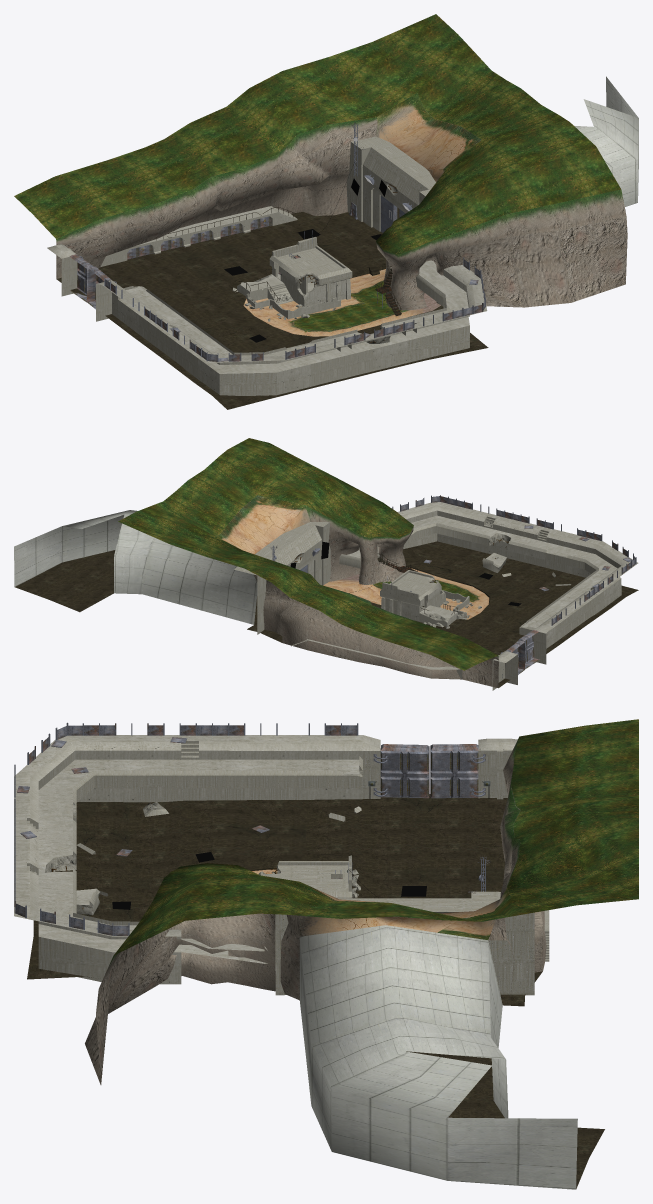
The picture shows the model from 3 angles, top to bottom: view 1: azimuth 30°, elevation 25°; view 2: azimuth 150°, elevation 25°; view 3: azimuth 270°, elevation 25°; orthographic projection. The views are drawn at different scales.
Visible parts, largest first — view 1: rocks, wall, tarmac, gate, ground, building, rocksBuilding, wallUp, buildingOut; view 2: rocks, tarmac, wall, gate, building, ground, wallUp, buildingOut, wallDebris, rocksBuilding, gateL; view 3: rocks, tarmac, wall, gate, wallUp, gateL, gateL01, building, wallDebris.
Part boxes in pixels (bbox=[...]): rocks: bbox=[14, 14, 638, 310]; wall: bbox=[47, 244, 487, 395]; tarmac: bbox=[56, 178, 488, 409]; gate: bbox=[346, 136, 435, 232]; ground: bbox=[243, 269, 440, 336]; building: bbox=[269, 237, 352, 306]; rocksBuilding: bbox=[100, 206, 297, 266]; wallUp: bbox=[104, 257, 485, 361]; buildingOut: bbox=[229, 269, 340, 321]; rocks: bbox=[14, 438, 498, 688]; tarmac: bbox=[15, 541, 638, 687]; wall: bbox=[339, 502, 638, 690]; gate: bbox=[234, 522, 330, 634]; building: bbox=[380, 570, 445, 621]; ground: bbox=[323, 567, 489, 619]; wallUp: bbox=[392, 495, 636, 625]; buildingOut: bbox=[419, 580, 481, 628]; wallDebris: bbox=[482, 538, 571, 642]; rocksBuilding: bbox=[291, 639, 462, 679]; gateL: bbox=[518, 630, 539, 669]; rocks: bbox=[85, 719, 638, 1189]; tarmac: bbox=[27, 794, 604, 1189]; wall: bbox=[14, 735, 517, 984]; gate: bbox=[275, 891, 534, 995]; wallUp: bbox=[14, 722, 358, 935]; gateL: bbox=[373, 744, 429, 798]; gateL01: bbox=[430, 744, 485, 798]; building: bbox=[258, 855, 352, 898]; wallDebris: bbox=[51, 801, 361, 915].
Size of the model in its own units: 4634 by 1051 by 3051.
